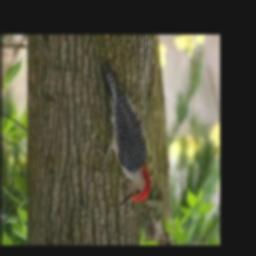Woodpecker: (97, 67, 151, 207)
